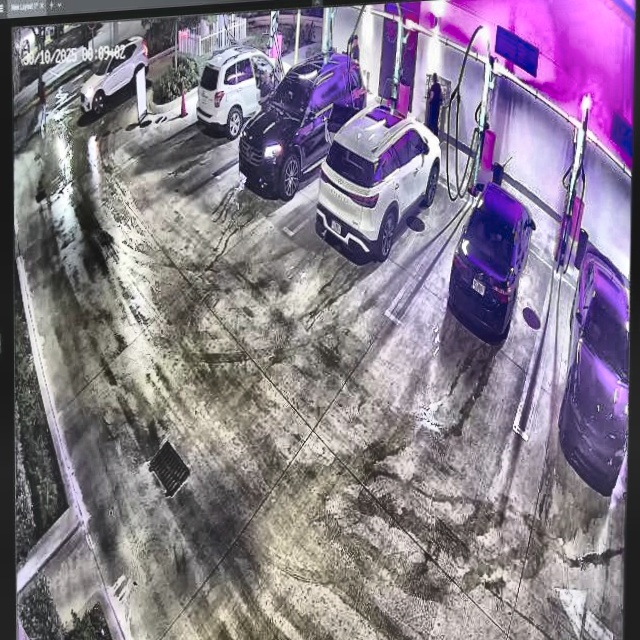Car: (311, 100, 442, 260), (240, 50, 366, 198), (446, 173, 533, 339)
